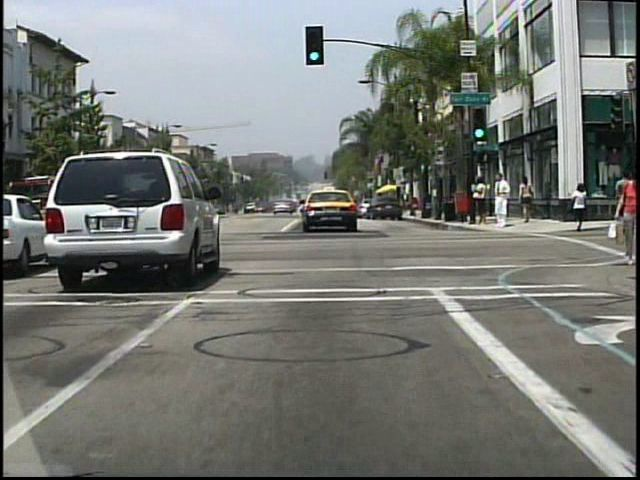person: (606, 171, 638, 263), (613, 168, 634, 232), (491, 174, 511, 228), (572, 180, 590, 231), (519, 176, 536, 225), (474, 173, 488, 226), (402, 191, 411, 215)
